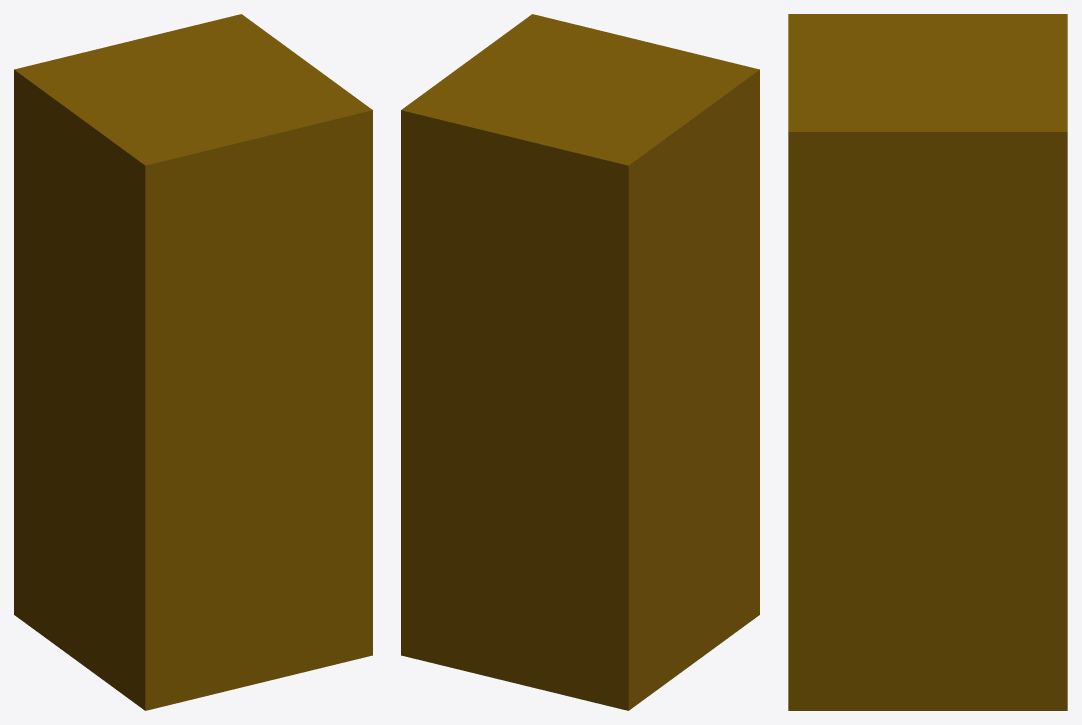
The picture shows the model from 3 angles, left to right: view 1: azimuth 30°, elevation 25°; view 2: azimuth 150°, elevation 25°; view 3: azimuth 270°, elevation 25°; orthographic projection. The views are drawn at different scales.
Parts seen in each view (by area): view 1: Cube; view 2: Cube; view 3: Cube.
Part boxes in pixels (x1,y1,x2,y2): Cube: (14, 14, 372, 710); Cube: (401, 14, 759, 710); Cube: (788, 14, 1067, 710).
Size of the model in its own units: 4000 by 9158 by 4000.
